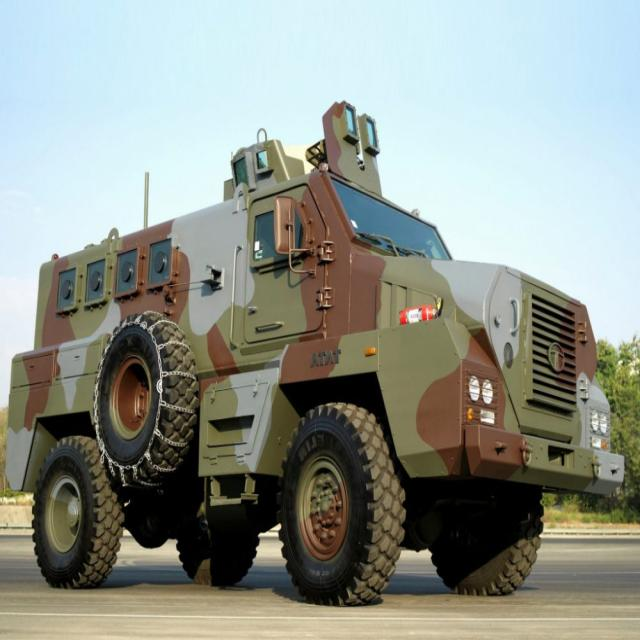truck: (6, 100, 625, 604)
